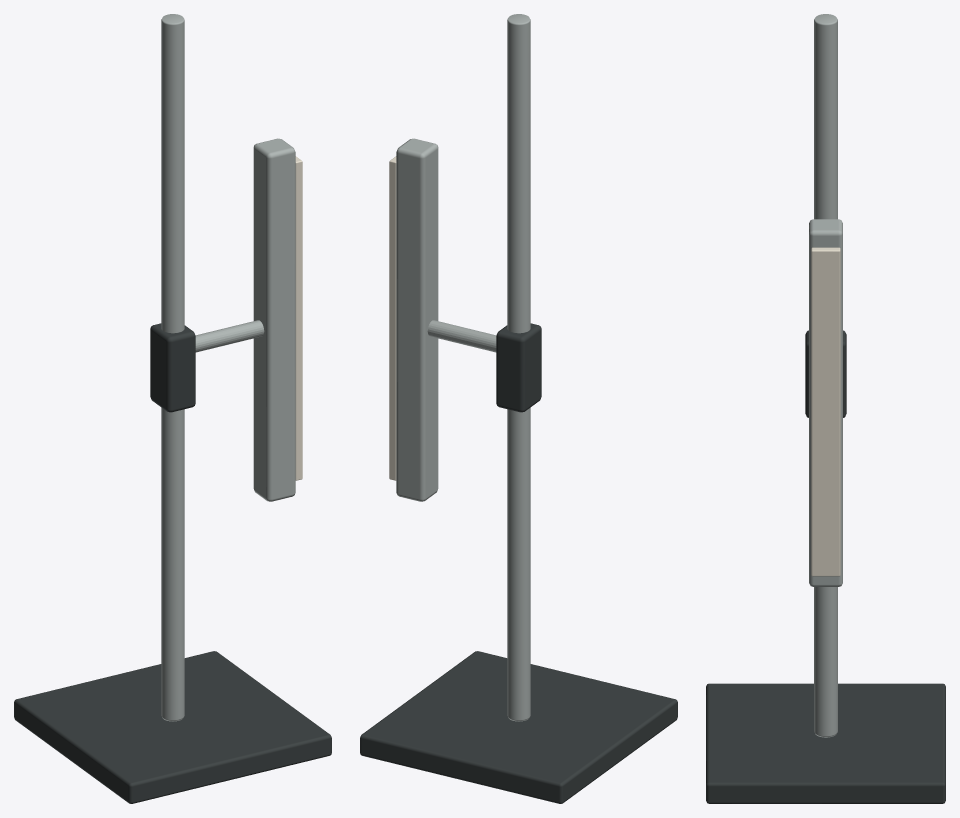
Rendered from museum-conservation-and-art-restoration-museum-conserv-b95ba930__31886.glb.
3 renders of one model, left to right at view 1: azimuth 30°, elevation 25°; view 2: azimuth 150°, elevation 25°; view 3: azimuth 270°, elevation 25°, orthographic. The views are drawn at different scales.
Visible parts, largest first — view 1: museum-conservation-and-art-restoration-raking-light-column_ (×3); view 2: museum-conservation-and-art-restoration-raking-light-column_ (×3); view 3: museum-conservation-and-art-restoration-raking-light-column_ (×3).
Part boxes in pixels (box(x1,y1,x2,y2)): museum-conservation-and-art-restoration-raking-light-column_ (×3): box(14, 14, 331, 803); museum-conservation-and-art-restoration-raking-light-column_ (×3): box(360, 14, 677, 803); museum-conservation-and-art-restoration-raking-light-column_ (×3): box(706, 14, 945, 803).
Bounding box in the file's own units: 0.7735 × 2.37 × 0.7.
